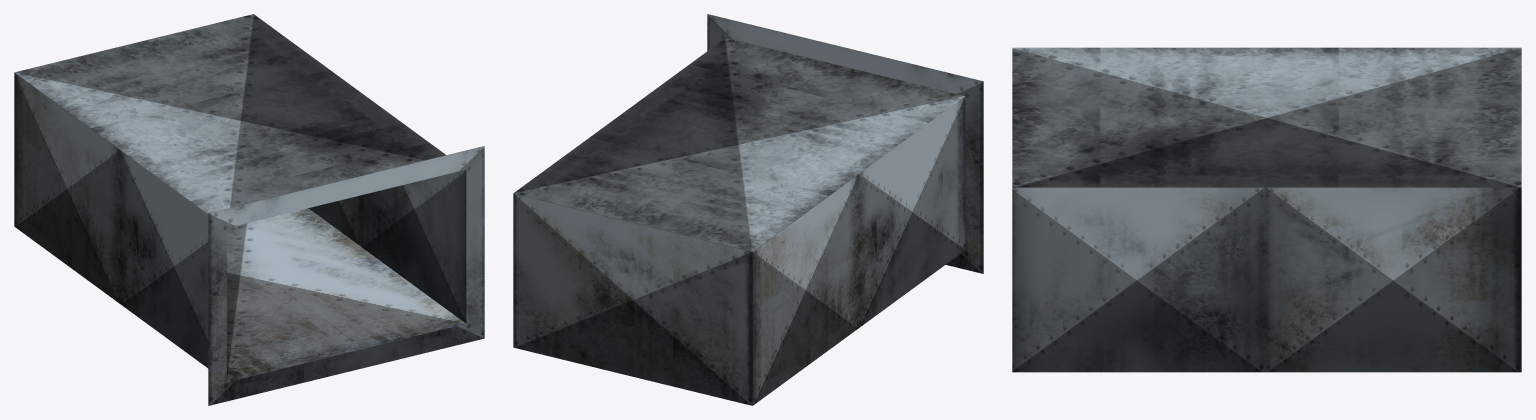
File: Air_Vent_Dead_End.FBX
3 views of the same model, side by side, from view 1: azimuth 30°, elevation 25°; view 2: azimuth 150°, elevation 25°; view 3: azimuth 270°, elevation 25° (orthographic). The views are drawn at different scales.
Visible parts, largest first — view 1: Box002; view 2: Box002; view 3: Box002.
Part boxes in pixels (box(x1,y1,x2,y2)): Box002: box(14, 14, 484, 405); Box002: box(513, 14, 983, 405); Box002: box(1012, 47, 1521, 372).
Bounding box in the file's own units: 150 × 100 × 200.
1 material, 1 textured.
